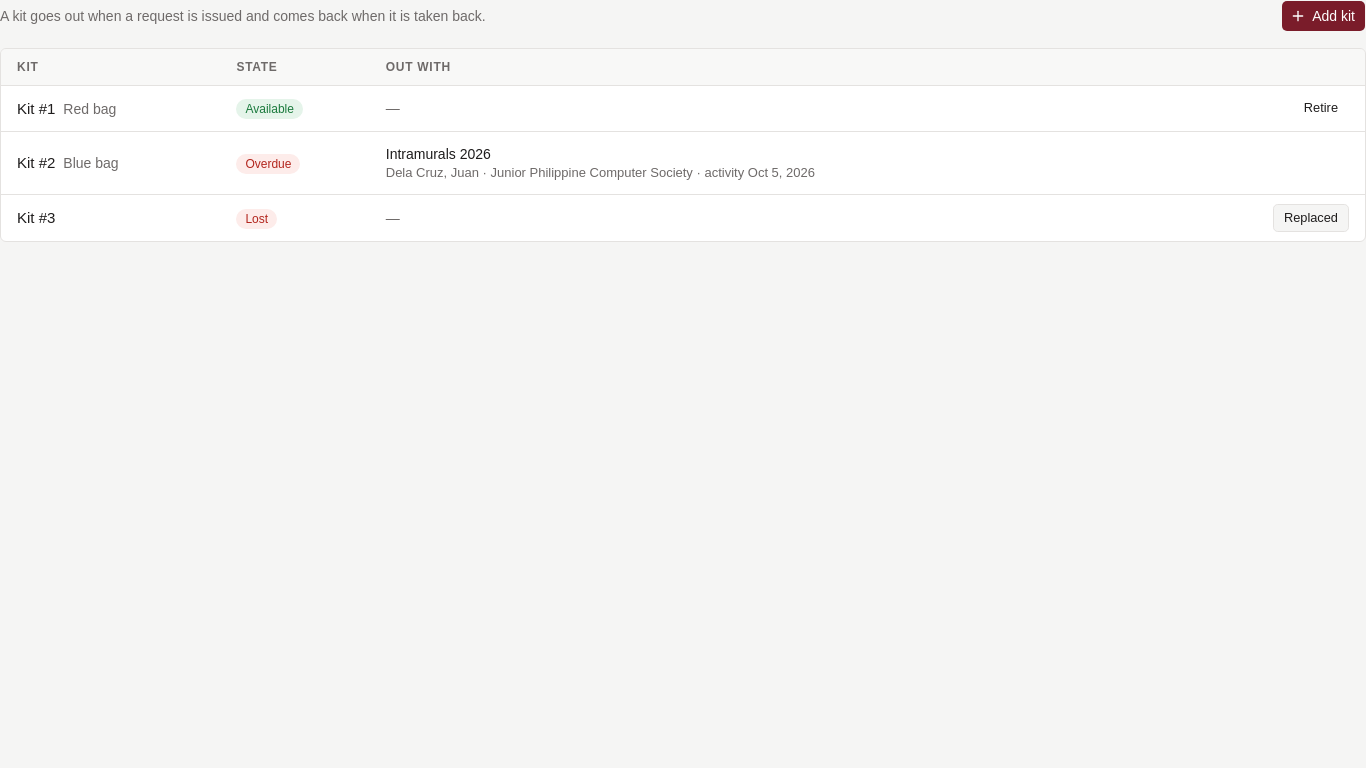
Scenario: the coordinator adds a kit
Click the button "Add kit" at x=1324, y=16, box [1281,0,1365,32]
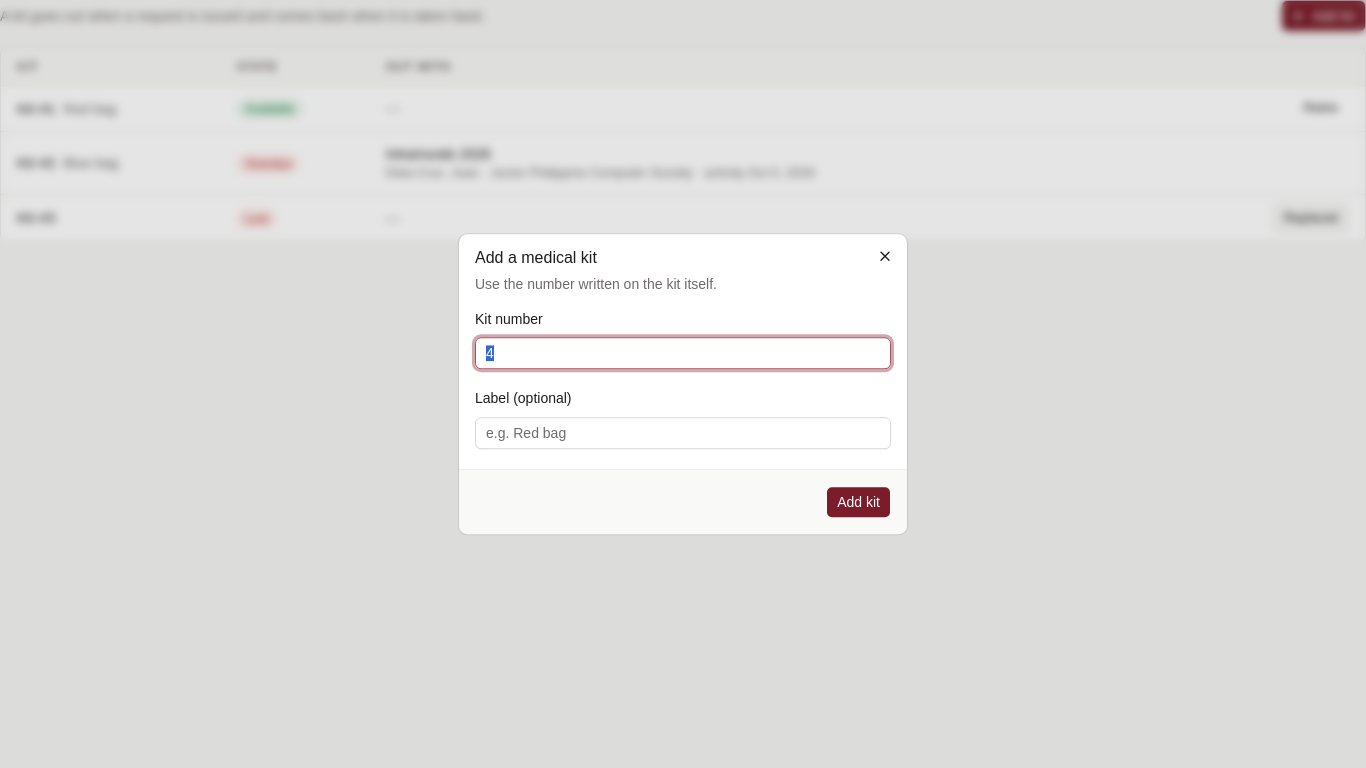
Check: the field labelled "Kit number" holds "4", box [475,338,891,370]
Type "Grey box" into the field labelled "Label (optional)" at x=683, y=433, box [475,417,891,449]
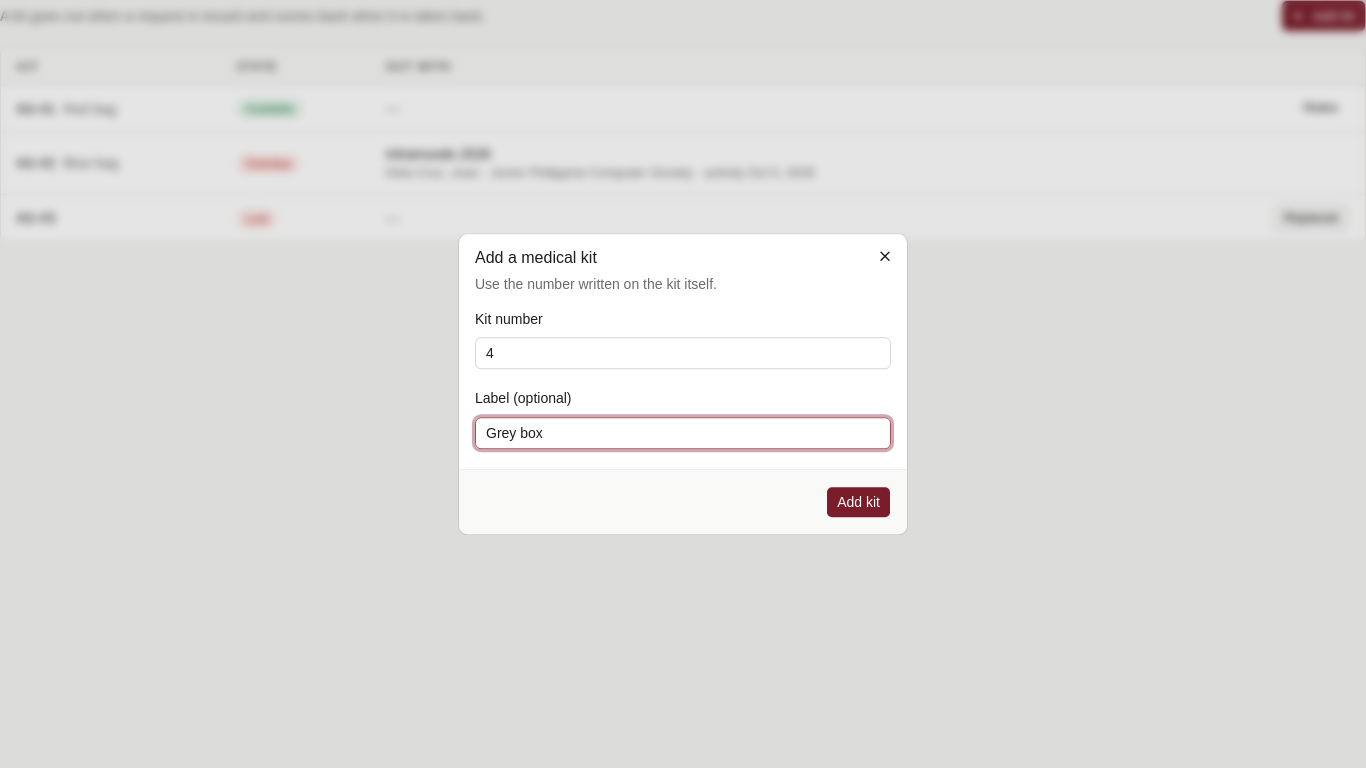
Click the button "Add kit" at x=859, y=502, box [826,486,891,518]
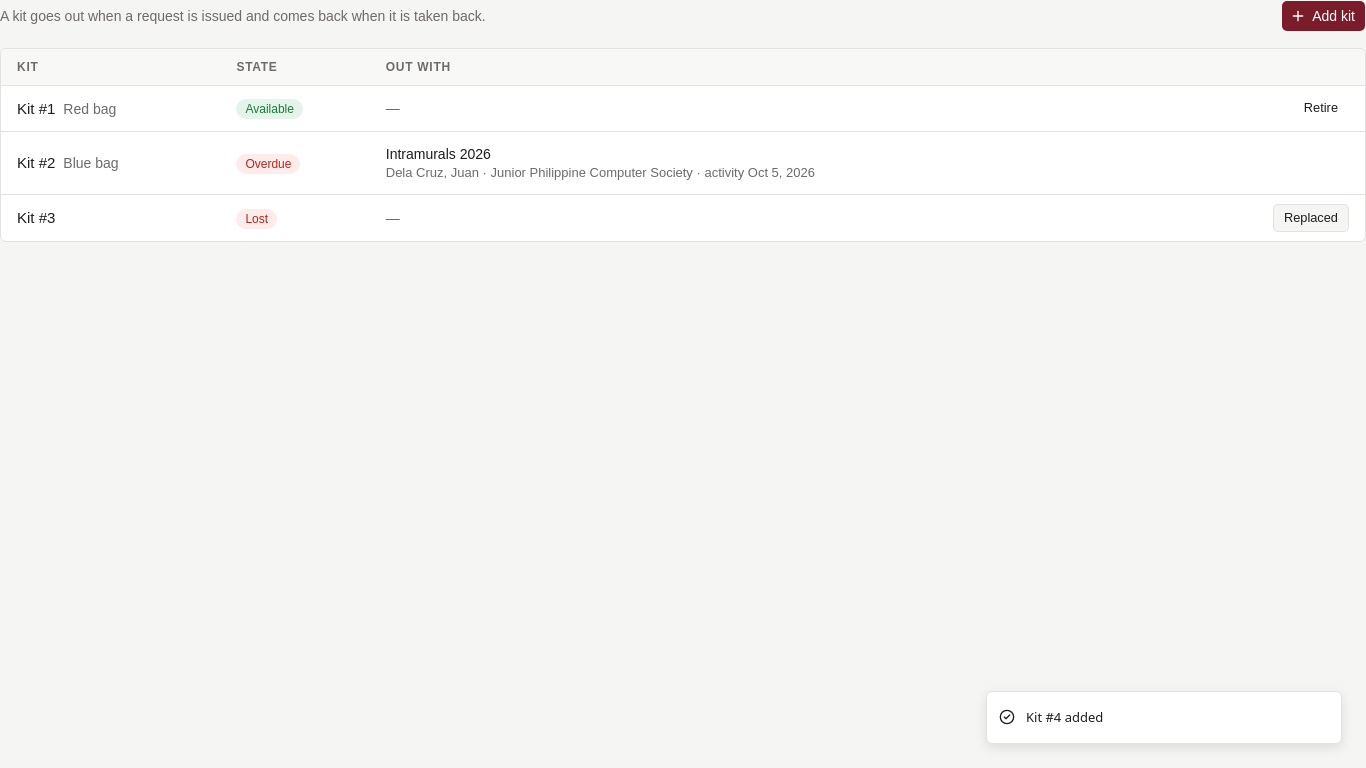
Check: the text "Kit #4 added" is shown, box [1026,708,1103,727]
